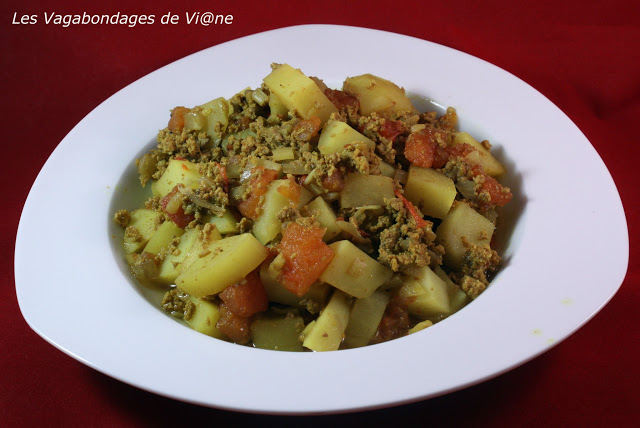oignon: (184, 184, 223, 213)
pomme de terre: (175, 239, 266, 279)
steak haché: (368, 215, 427, 265)
tomate: (289, 237, 323, 278)
